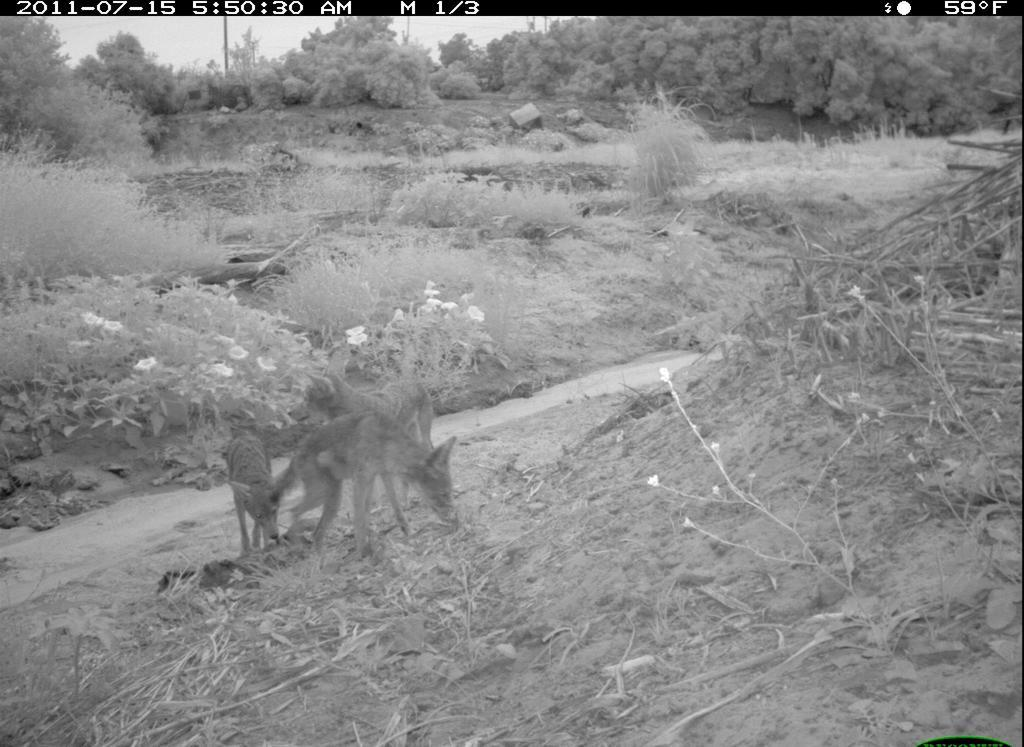coyote: (287, 359, 476, 565), (219, 427, 291, 570)
